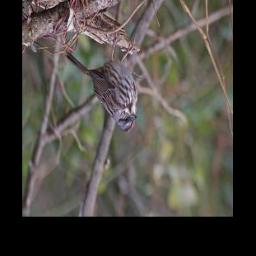Sparrow: (64, 36, 138, 134)
